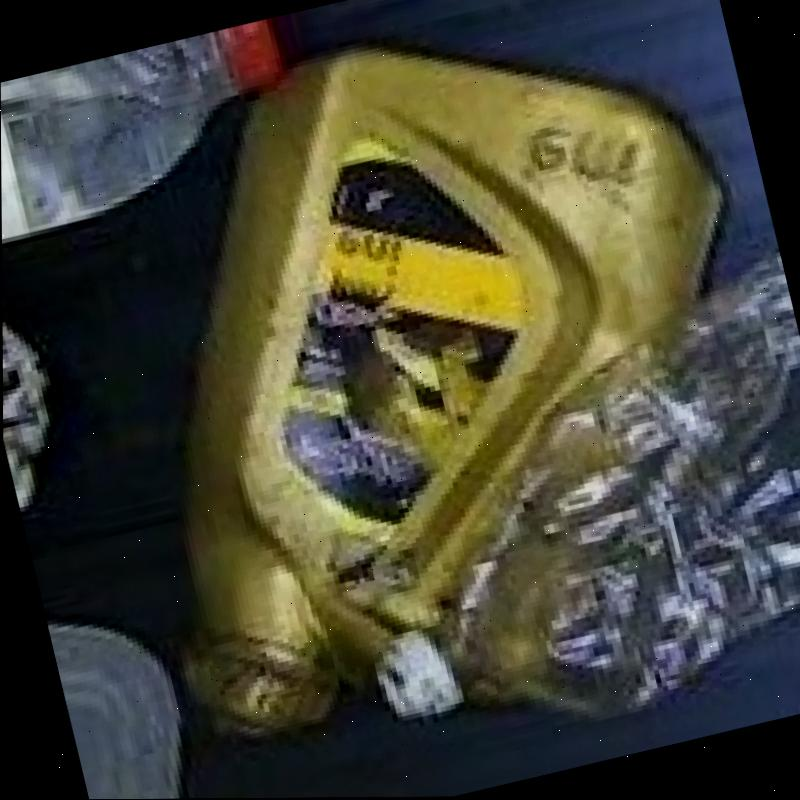botella: (301, 241, 800, 759), (0, 15, 321, 275)
